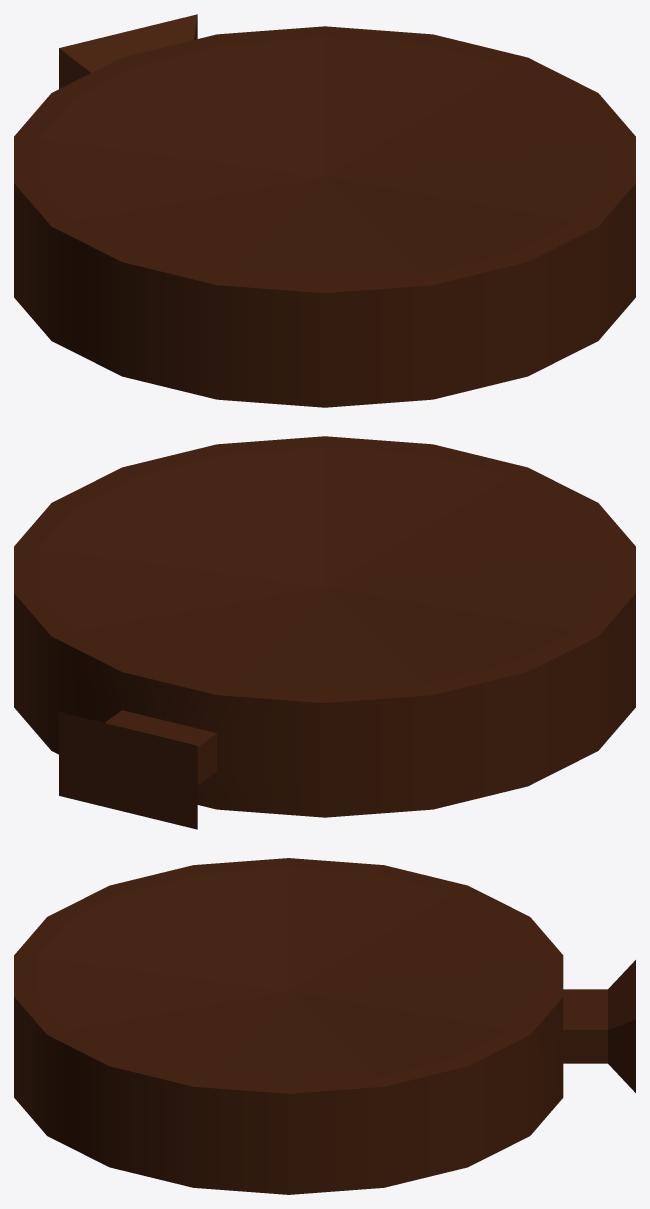
The model's file is relojEx.fbx.
3 renders of one model, top to bottom at view 1: azimuth 30°, elevation 25°; view 2: azimuth 150°, elevation 25°; view 3: azimuth 270°, elevation 25°, orthographic. The views are drawn at different scales.
Parts seen in each view (by area): view 1: Cylinder001; view 2: Cylinder001; view 3: Cylinder001.
Part boxes in pixels (box(x1,y1,x2,y2)): Cylinder001: box(14, 14, 635, 407); Cylinder001: box(14, 436, 635, 829); Cylinder001: box(14, 858, 635, 1194).
Size of the model in its own units: 1 by 0.2301 by 1.11.
